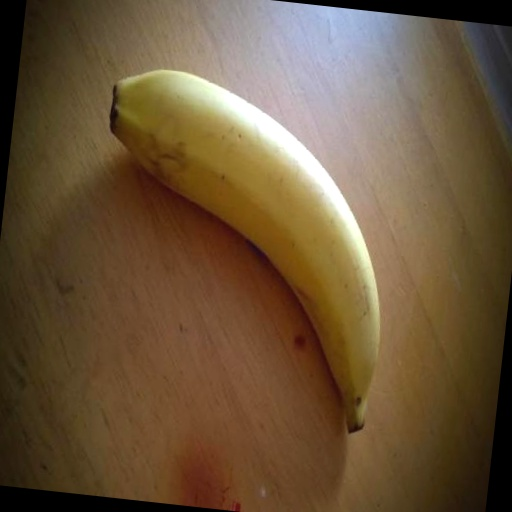fruit: (52, 46, 167, 203)
